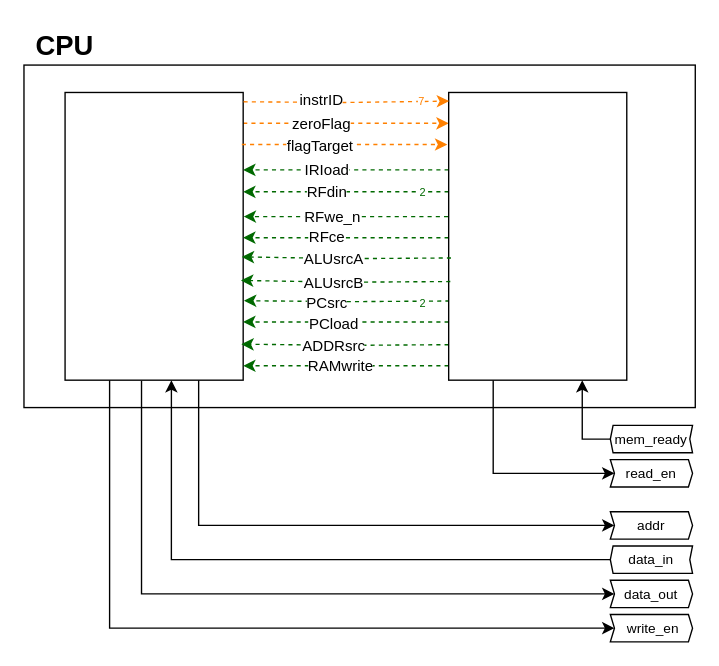
Some shapes in this 719 by 666 pixel diagram are drawn without their labels. Here are the shapes that lost their labels. From the top down, the box of each, then its label:
(64, 91, 243, 380): Datapath
(447, 91, 627, 380): Controller
